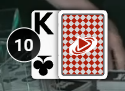k: (31, 10, 57, 38)
